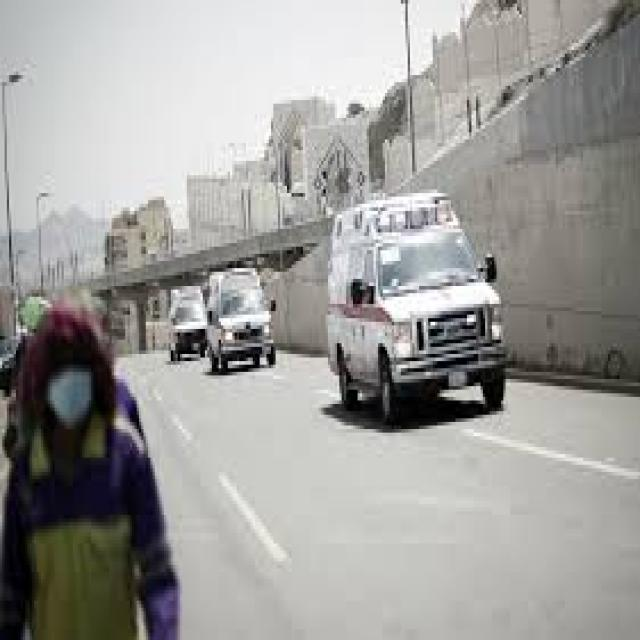ambulance: (326, 188, 510, 425)
